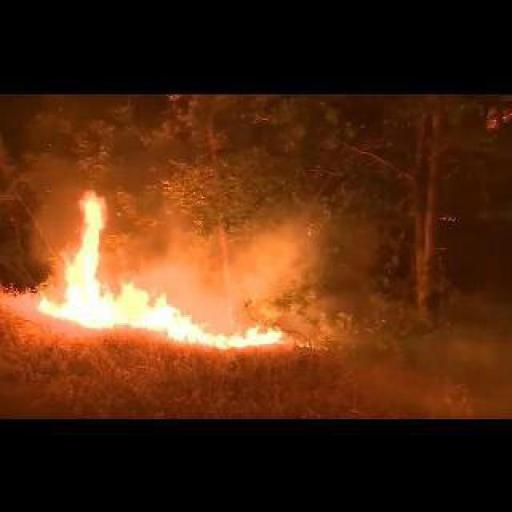smoke: (34, 186, 284, 356), (158, 210, 340, 320)
